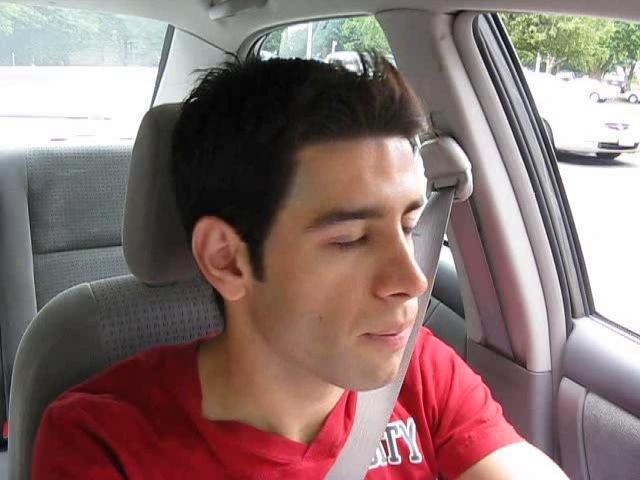eye_closed: (322, 227, 375, 258)
face: (286, 182, 432, 394)
